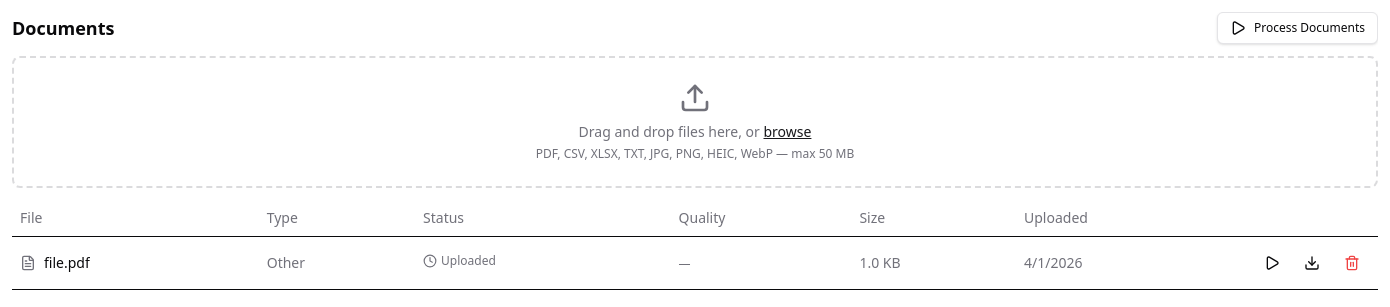
Test: DocumentsPanel › shows delete confirmation
Note: Click delete button (the trash icon button — use first one for desktop)
Click the button titled "Delete" at (1352, 263), box [1334,245,1370,281]
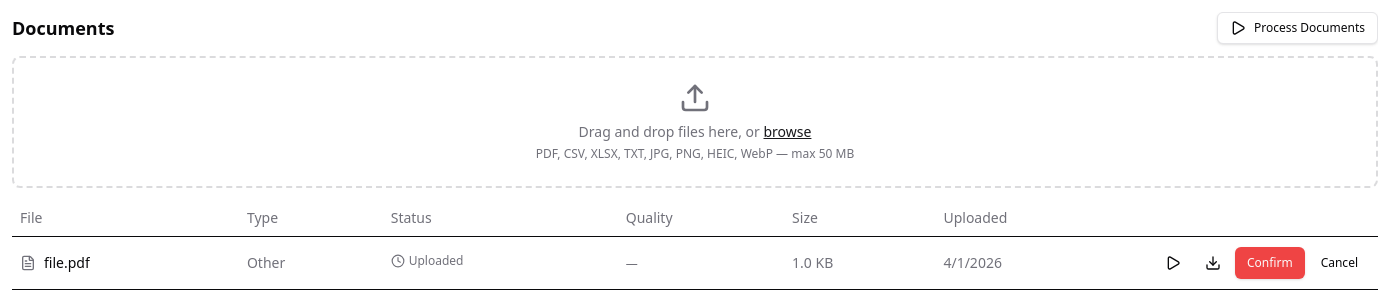
Check: the button "Confirm" is shown, box [1235,247,1305,279]
Check: the button "Cancel" is shown, box [1309,247,1370,279]
